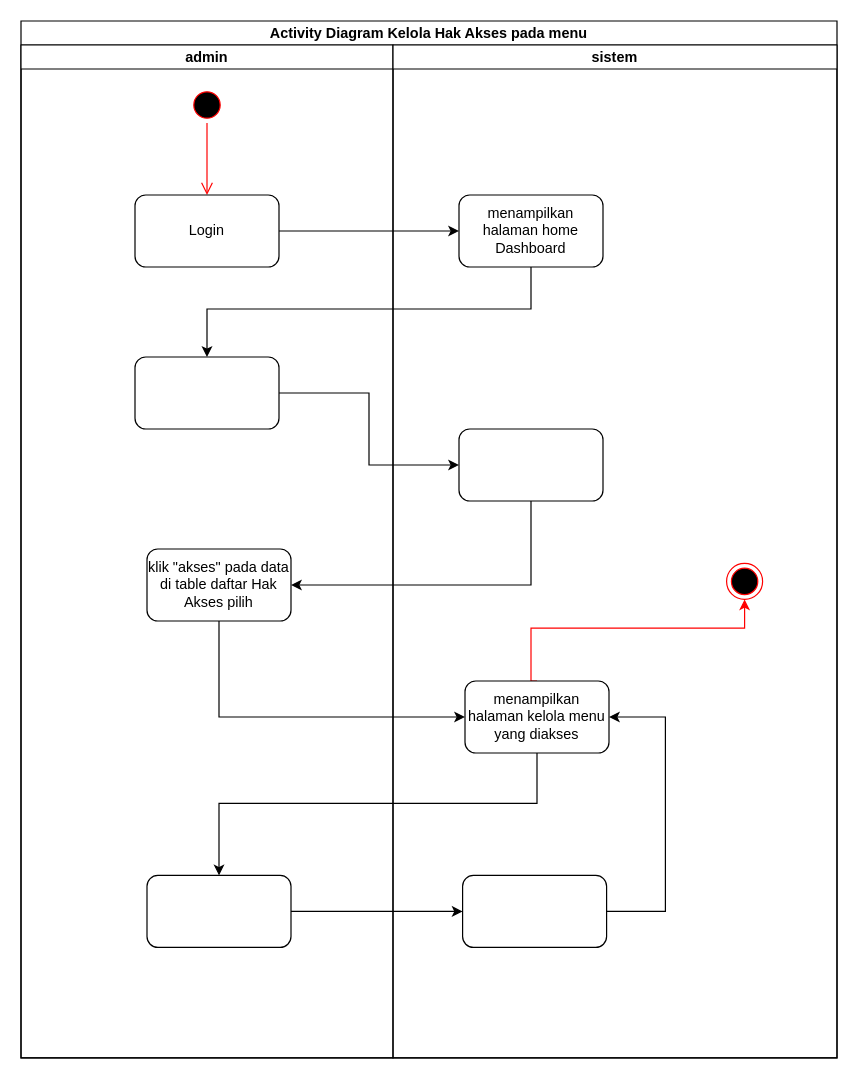
This 858x1079 diagram has some shape labels left out. The centre of each missing label's shape, as x and y in pixels:
centang untuk memberikan akses pada role: the point at 218,910
klik menu "Administrator" pilh "Hak Akses": the point at 206,392
menampilkan halaman daftar data Hak Akses: the point at 530,464
mengubah status yang boleh diakses pada database: the point at 534,910
